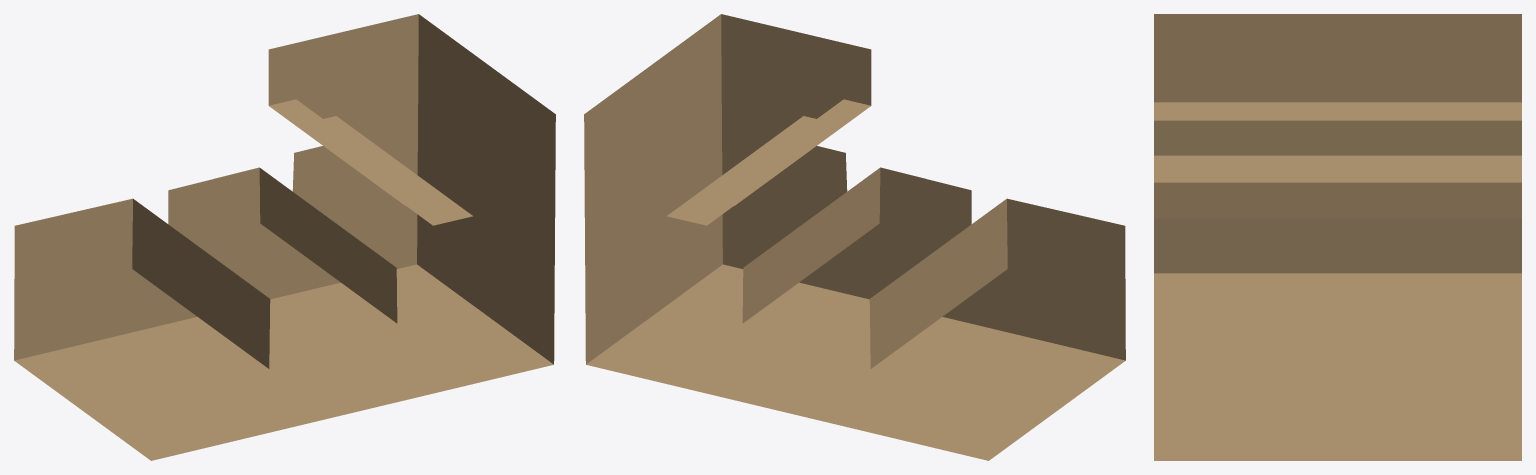
3 renders of one model, left to right at view 1: azimuth 30°, elevation 25°; view 2: azimuth 150°, elevation 25°; view 3: azimuth 270°, elevation 25°, orthographic. The views are drawn at different scales.
Visible parts, largest first — view 1: 0_1_0_2_1_3_0_0_2; view 2: 0_1_0_2_1_3_0_0_2; view 3: 0_1_0_2_1_3_0_0_2.
Part boxes in pixels (x1,y1,x2,y2): 0_1_0_2_1_3_0_0_2: (14,14,555,460); 0_1_0_2_1_3_0_0_2: (584,14,1125,460); 0_1_0_2_1_3_0_0_2: (1154,14,1521,460).
Bounding box in the file's own units: 46.02 × 27.29 × 27.
